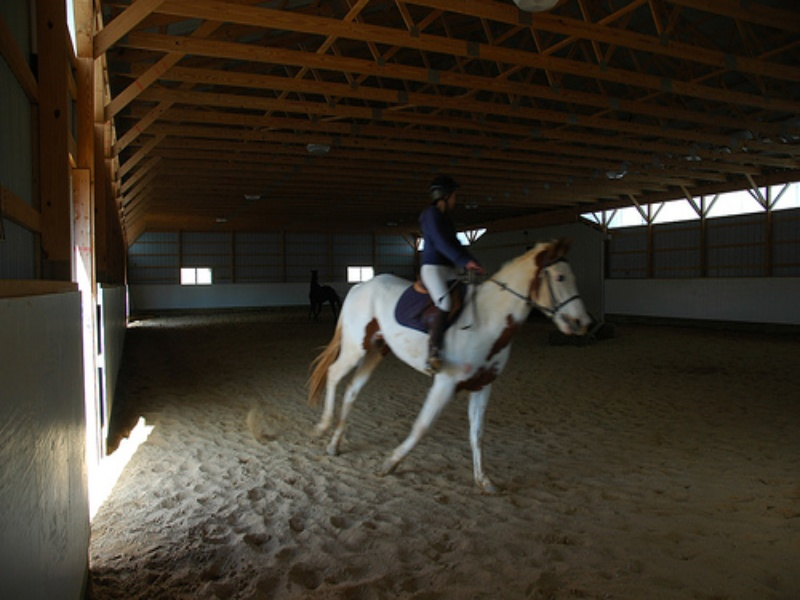person: (419, 176, 483, 369)
